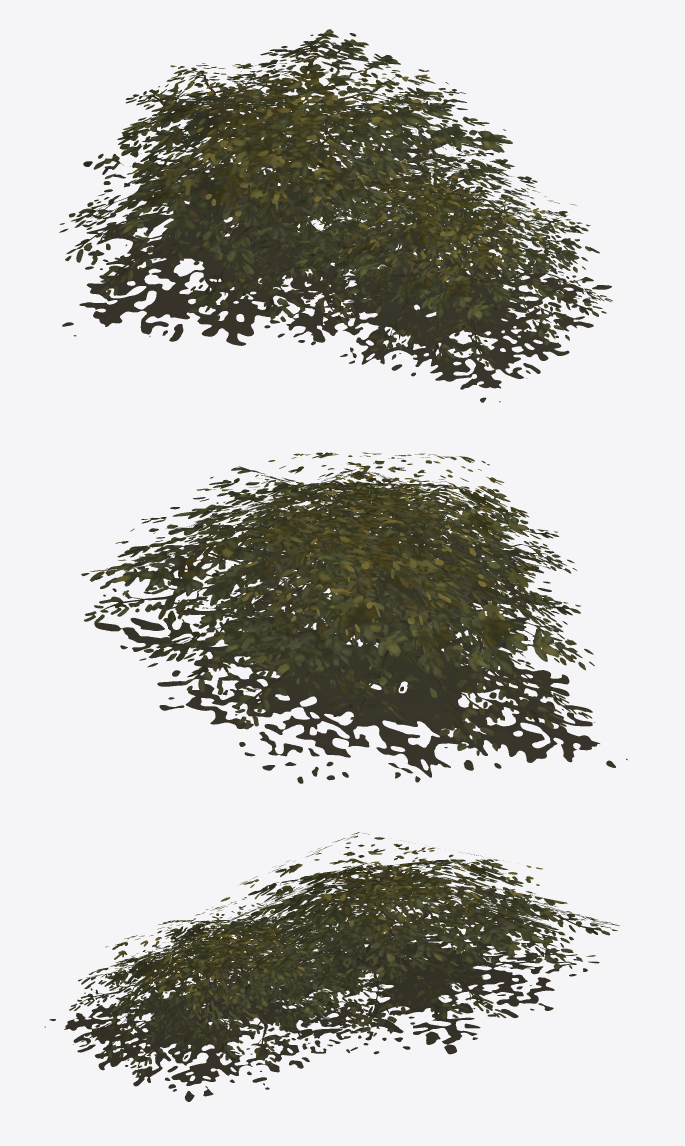
File: plants_bushes12.fbx
3 views of the same model, one above another, from view 1: azimuth 30°, elevation 25°; view 2: azimuth 150°, elevation 25°; view 3: azimuth 270°, elevation 25° (orthographic). The views are drawn at different scales.
Visible parts, largest first — view 1: Material_#6642/bush_1; view 2: Material_#6642/bush_1; view 3: Material_#6642/bush_1.
Boxes of the visible parts, x1,y1,x2,y2 form: Material_#6642/bush_1: [59, 29, 612, 402]; Material_#6642/bush_1: [81, 452, 627, 783]; Material_#6642/bush_1: [44, 832, 619, 1101].
Bounding box in the file's own units: 5.34 × 1.76 × 6.24.
